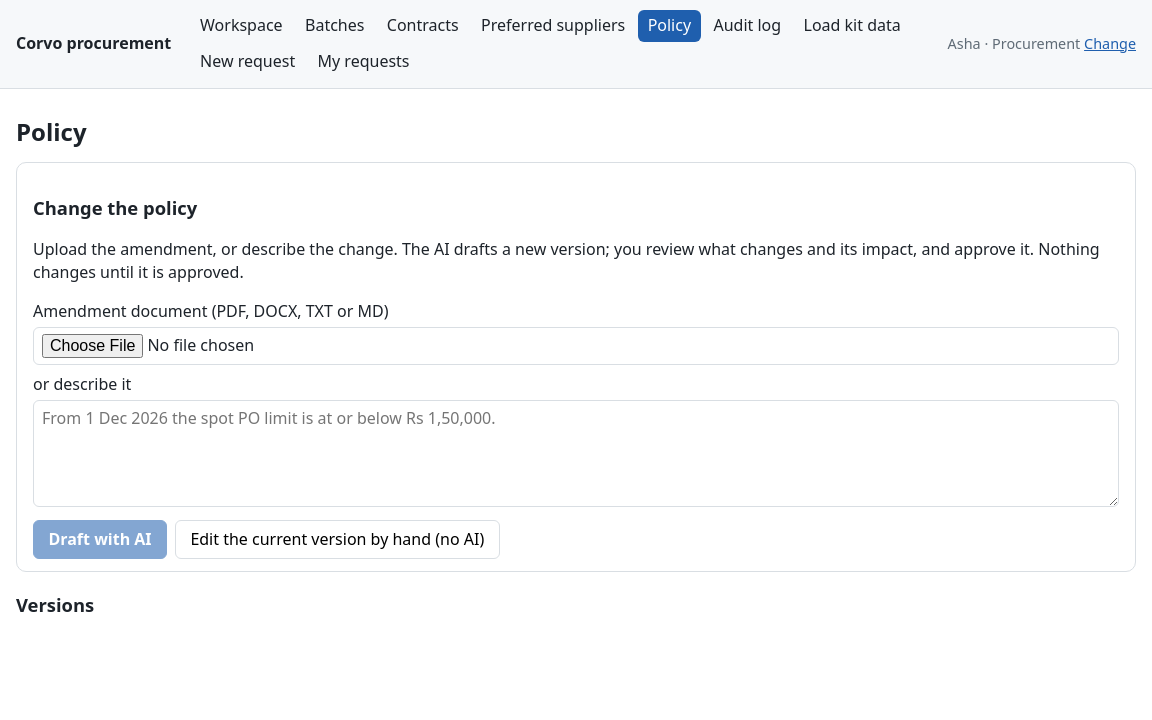
it: policy screens (B7) › describing a change starts a draft and opens it
Replace the text in the text box labelled "or describe it" with "Spot limit at or below 1.5 lakh from 1 Dec": (576, 453) [33,400,1119,507]
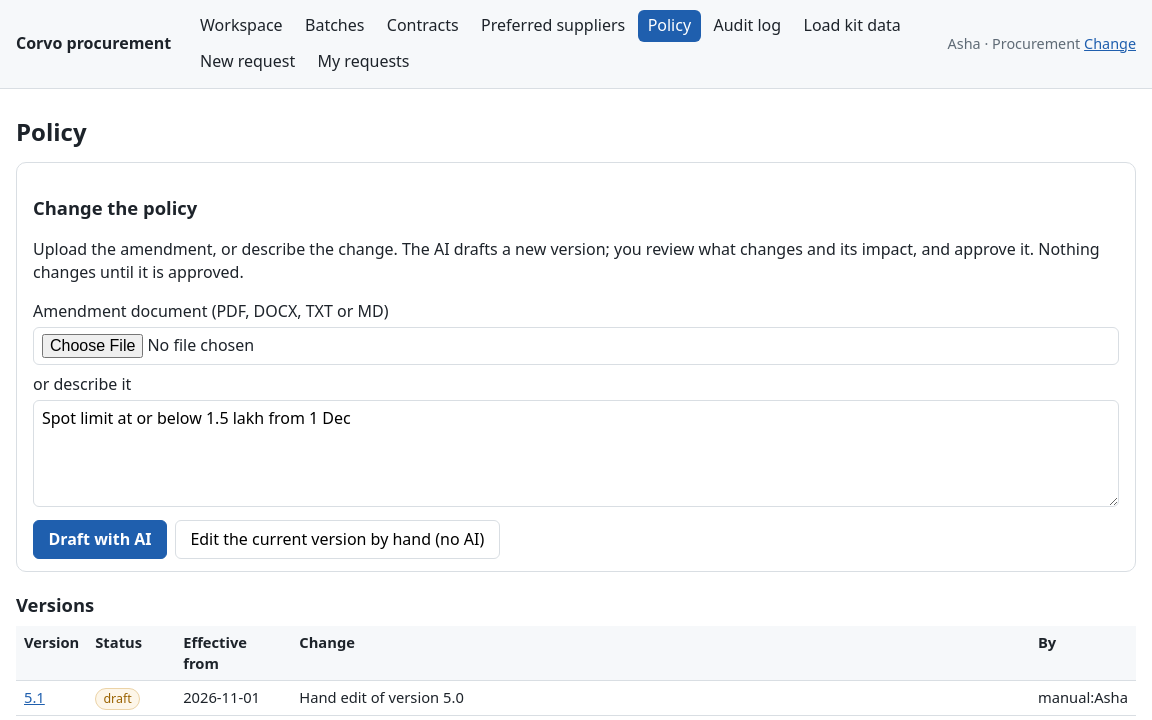
Click the button "Draft with AI": (100, 539) [33,520,167,559]
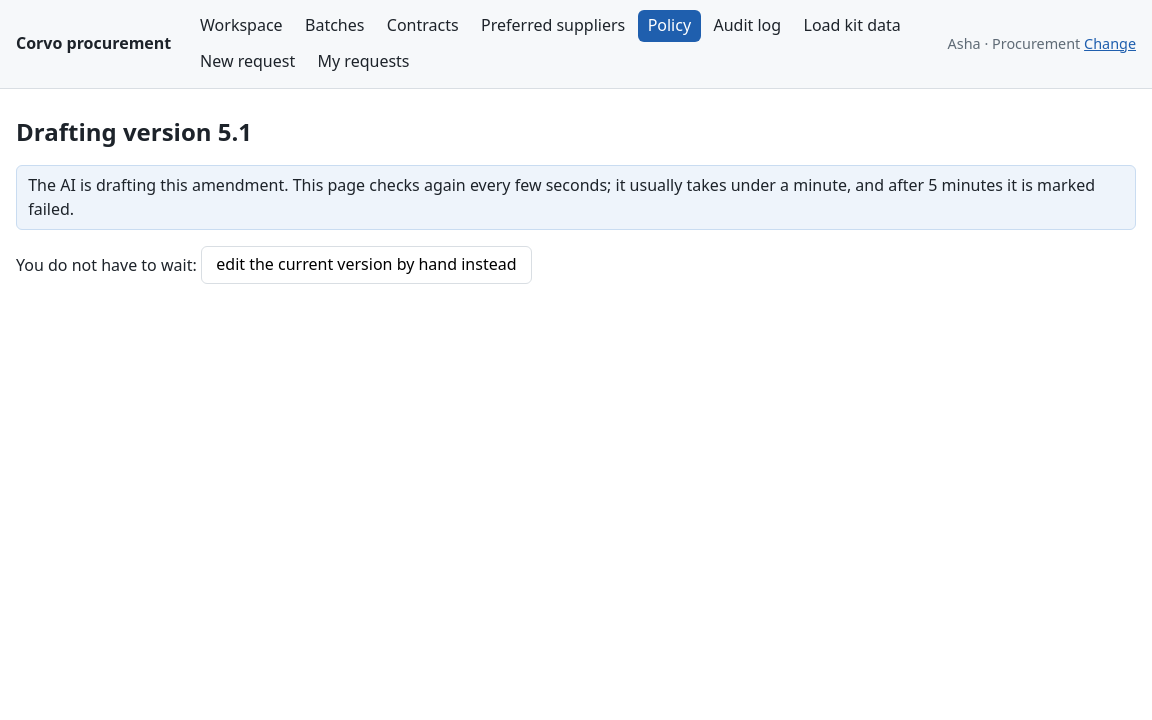
Now the text "The AI is drafting this amendment" is shown, box [28,174,1095,220]
